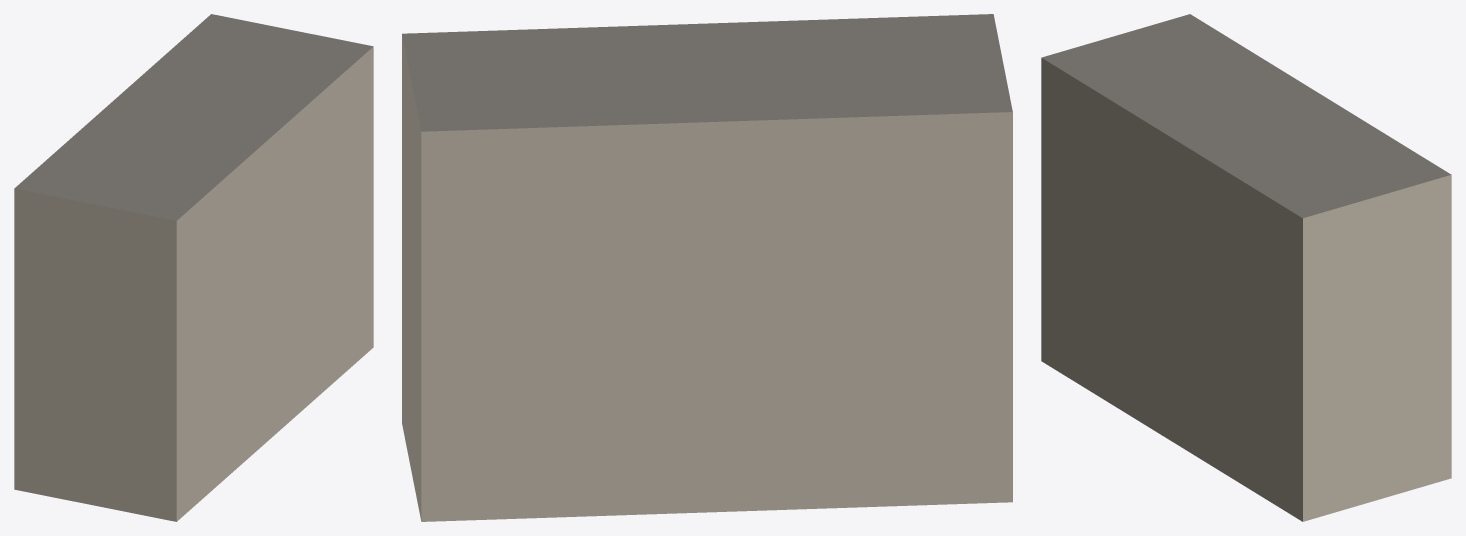
3 views of the same model, side by side, from view 1: azimuth 30°, elevation 25°; view 2: azimuth 150°, elevation 25°; view 3: azimuth 270°, elevation 25° (orthographic). The views are drawn at different scales.
Visible parts, largest first — view 1: HP-w442027163; view 2: HP-w442027163; view 3: HP-w442027163.
Part boxes in pixels (x1,y1,x2,y2): HP-w442027163: [14, 14, 373, 521]; HP-w442027163: [402, 14, 1012, 521]; HP-w442027163: [1041, 14, 1451, 521].
Size of the model in its own units: 25.98 by 18 by 22.04.
